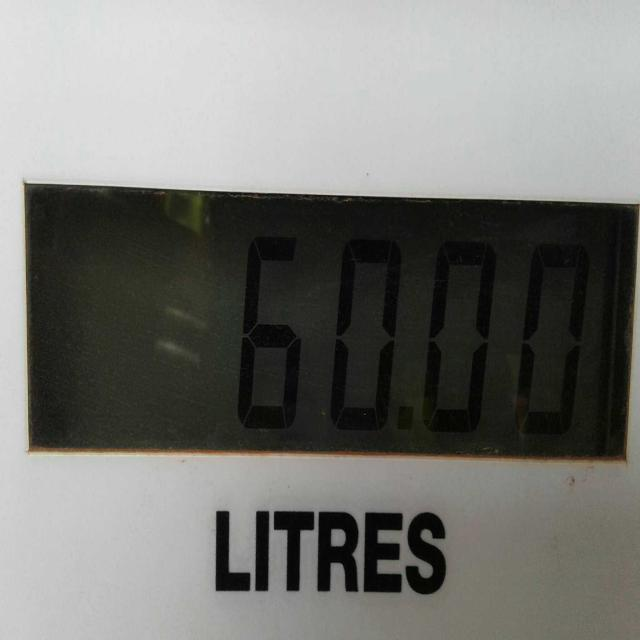.: (387, 385, 427, 454)
0: (512, 242, 590, 463), (426, 235, 500, 444), (328, 232, 396, 438)
6: (232, 213, 304, 444)
